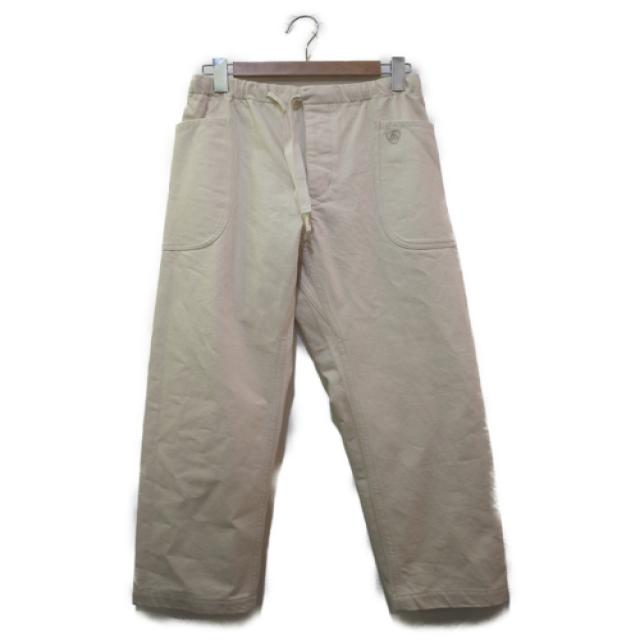long-pants: (133, 62, 513, 620)
